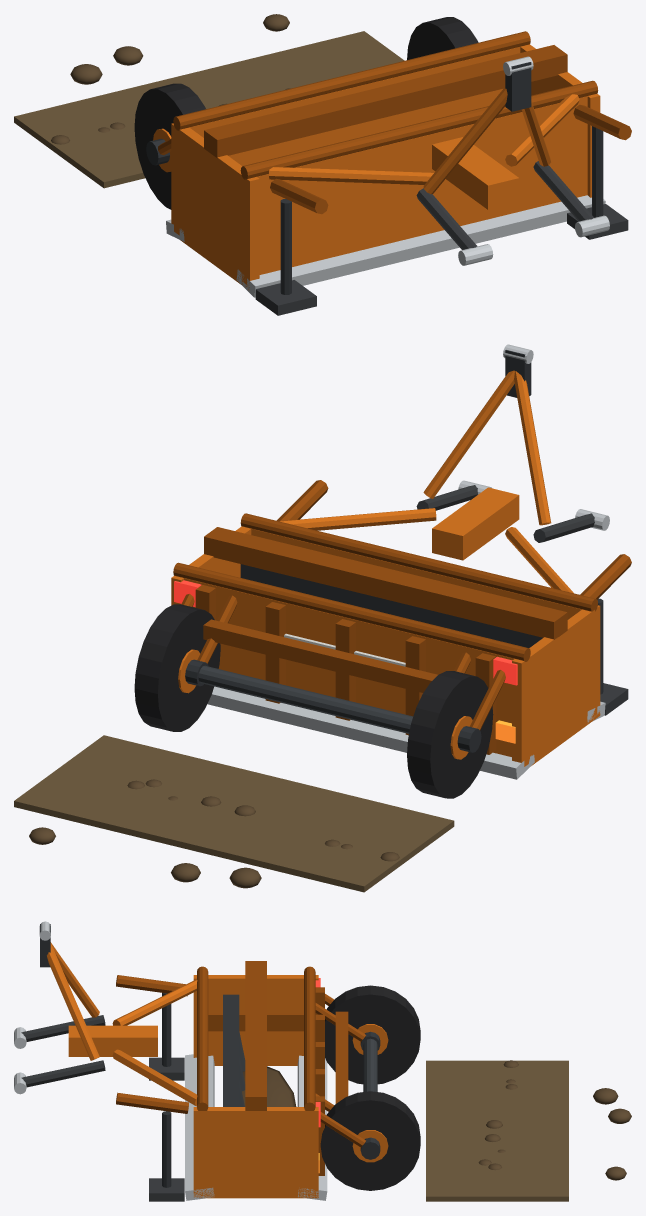
Rendered from box_blade.glb.
3 renders of one model, top to bottom at view 1: azimuth 30°, elevation 25°; view 2: azimuth 150°, elevation 25°; view 3: azimuth 270°, elevation 25°, orthographic. The views are drawn at different scales.
Parts seen in each view (by area): view 1: BoxBody, BoxProps, BoxWheels; view 2: BoxBody, BoxProps, BoxWheels; view 3: BoxBody, BoxProps, BoxWheels.
Part boxes in pixels (left/top/right/bottom): BoxBody: left=146, top=31, right=631, bottom=315; BoxProps: left=14, top=14, right=404, bottom=188; BoxWheels: left=134, top=17, right=478, bottom=209; BoxBody: left=171, top=344, right=631, bottom=779; BoxProps: left=14, top=735, right=454, bottom=892; BoxWheels: left=134, top=604, right=493, bottom=798; BoxBody: left=14, top=921, right=380, bottom=1201; BoxProps: left=426, top=1060, right=631, bottom=1201; BoxWheels: left=320, top=985, right=420, bottom=1190.
Size of the model in its own units: 1.8 by 1.28 by 3.46.
